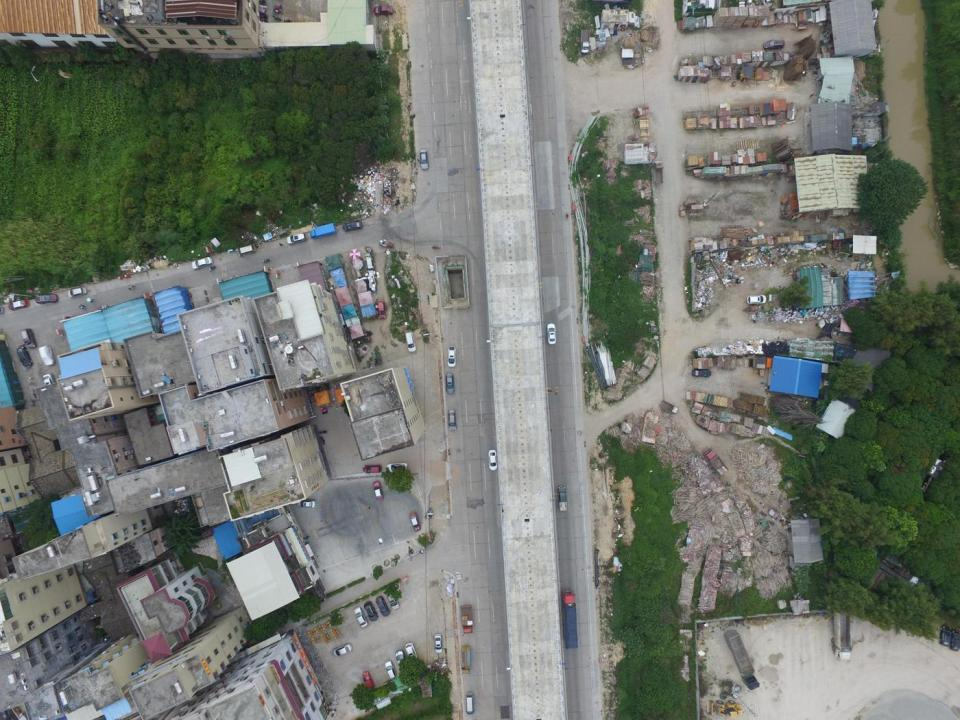car: (16, 346, 32, 368), (38, 346, 55, 366), (363, 601, 380, 621), (353, 606, 368, 628), (332, 642, 352, 658), (375, 596, 390, 616), (939, 624, 952, 647), (43, 373, 56, 395), (191, 257, 213, 270), (386, 590, 400, 610), (416, 150, 430, 170), (8, 299, 30, 311), (546, 323, 558, 345), (404, 643, 417, 663), (35, 294, 58, 305), (395, 650, 407, 671), (362, 671, 375, 690), (405, 331, 416, 353), (409, 511, 421, 531), (446, 347, 457, 368), (373, 5, 394, 16), (372, 481, 384, 500), (286, 233, 306, 244), (342, 221, 363, 231), (376, 301, 387, 320), (951, 630, 960, 653), (433, 634, 443, 654), (746, 294, 766, 304), (488, 449, 497, 471), (68, 288, 87, 298), (448, 410, 457, 431), (387, 463, 408, 472), (691, 368, 712, 377), (296, 498, 316, 507), (446, 373, 454, 394), (363, 465, 381, 474)
truck: (724, 630, 760, 691), (831, 605, 854, 662), (562, 589, 578, 650), (702, 447, 729, 476), (310, 222, 337, 239), (459, 604, 474, 634), (461, 646, 472, 676), (558, 485, 568, 511), (580, 28, 590, 54), (660, 400, 678, 414)
van: (21, 328, 37, 348), (763, 38, 785, 50), (384, 660, 396, 679), (465, 692, 474, 716), (238, 245, 256, 256)
